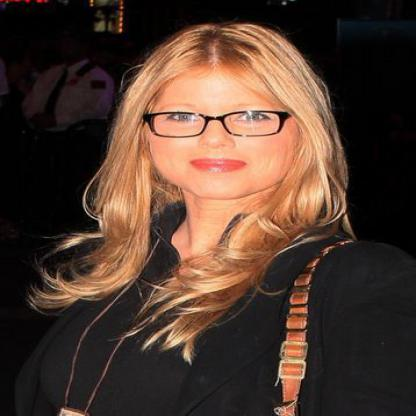glasses: (141, 108, 296, 140)
long-hair: (78, 204, 366, 240)
